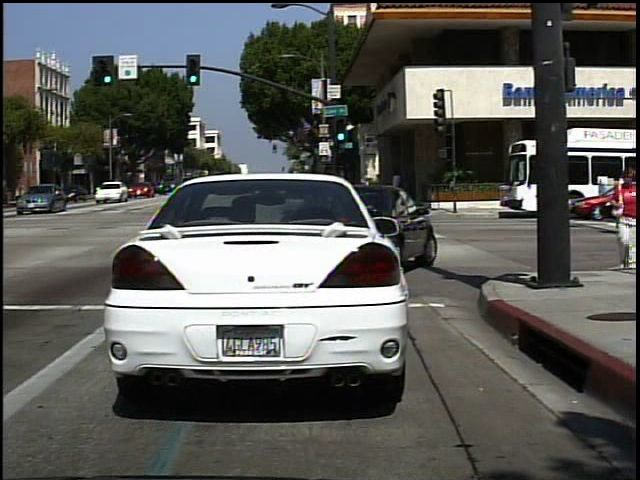person: (606, 165, 638, 272), (388, 168, 407, 207)
